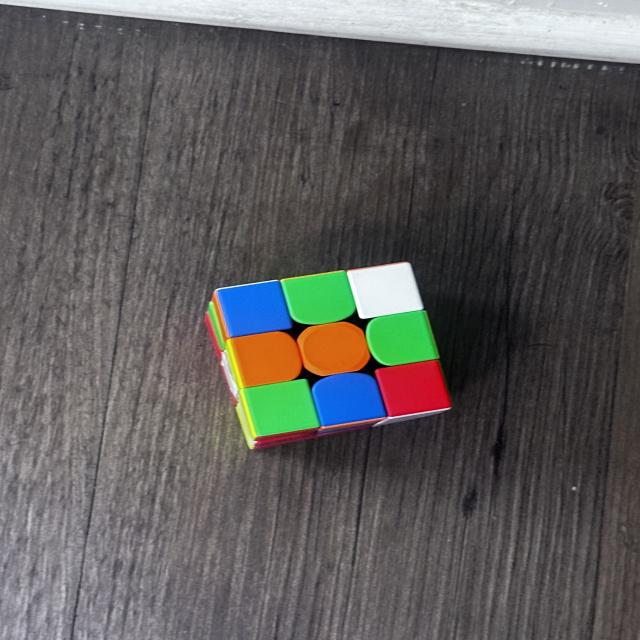sticker: (241, 378, 322, 444), (373, 359, 454, 424), (344, 260, 426, 322), (214, 280, 294, 340), (310, 372, 386, 434), (226, 330, 304, 388), (280, 270, 358, 326), (366, 311, 440, 368), (297, 322, 371, 376)
